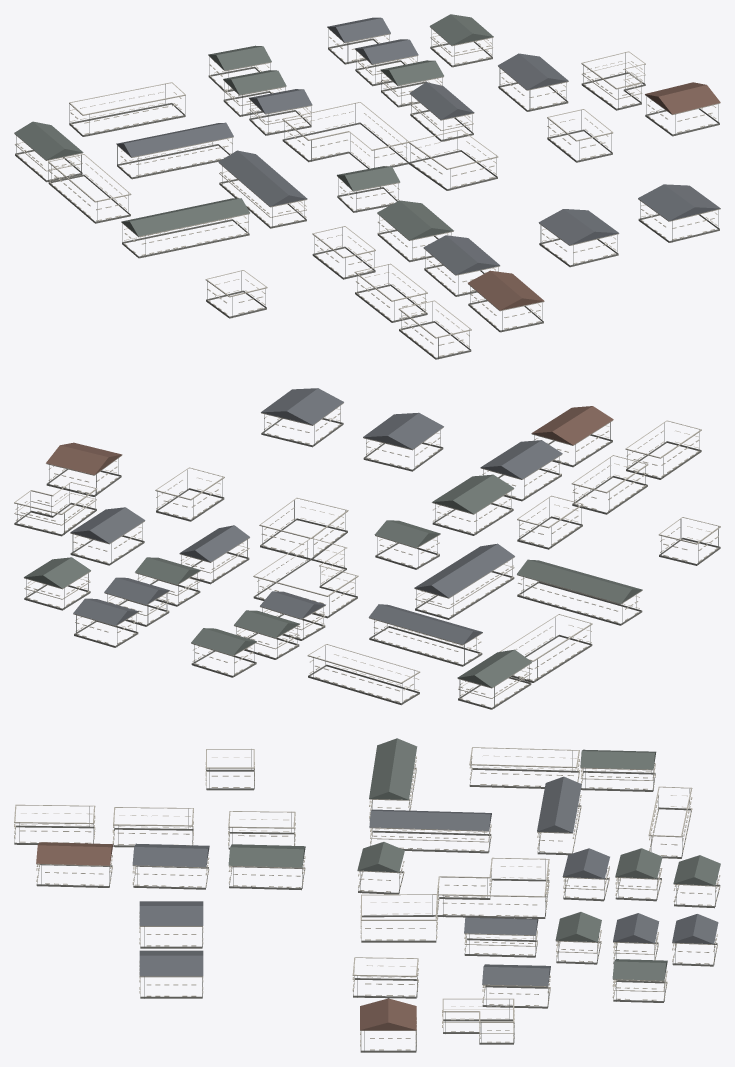
Rendered from district_0_1.glb.
3 renders of one model, top to bottom at view 1: azimuth 30°, elevation 25°; view 2: azimuth 150°, elevation 25°; view 3: azimuth 270°, elevation 25°, orthographic.
Visible parts, largest first — view 1: RoofMetal, MasonryTrim, MetalDetails; view 2: RoofMetal, MasonryTrim, MetalDetails; view 3: RoofMetal, MasonryTrim, MetalDetails.
Part boxes in pixels (<box>): RoofMetal: <box>14,14,720,310</box>; MasonryTrim: <box>14,27,720,359</box>; MetalDetails: <box>16,29,718,359</box>; RoofMetal: <box>24,388,642,687</box>; MasonryTrim: <box>14,402,720,709</box>; MetalDetails: <box>17,406,718,708</box>; RoofMetal: <box>36,738,720,1030</box>; MasonryTrim: <box>14,747,720,1052</box>; MetalDetails: <box>19,750,717,1052</box>.
Bounding box in the file's own units: 203 × 10.1 × 213.
